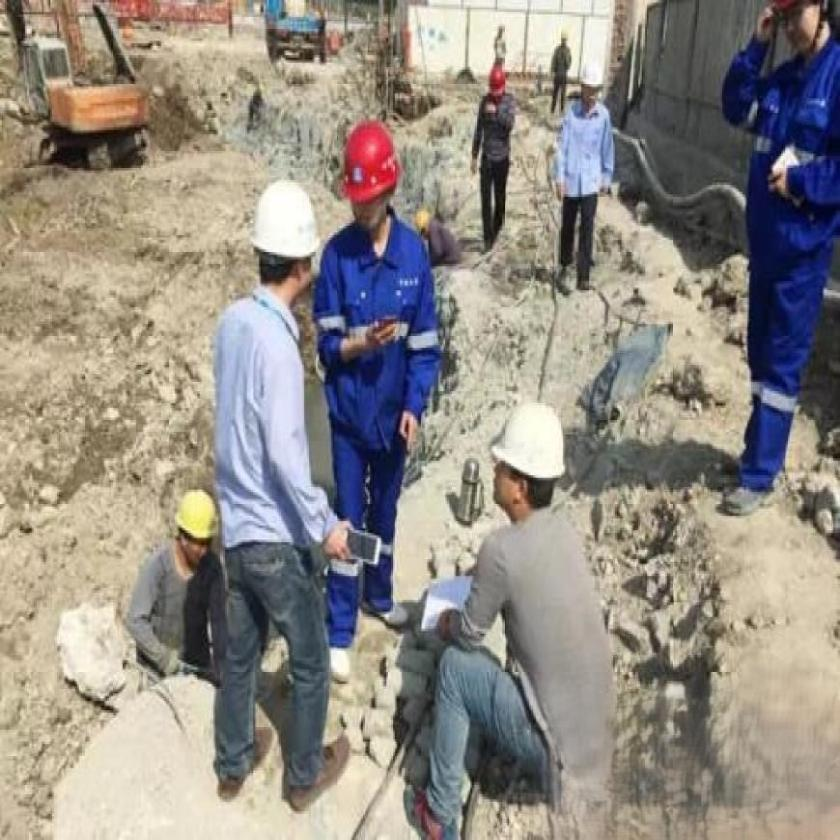Con_casco: (334, 96, 408, 243), (242, 174, 324, 300), (486, 396, 560, 503), (564, 45, 612, 121)
